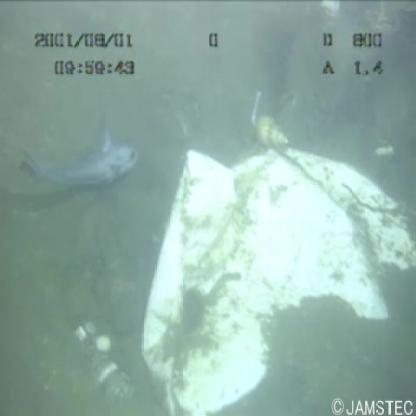Bio: (14, 118, 156, 202), (254, 106, 293, 149)
Rác: (120, 137, 415, 416)
